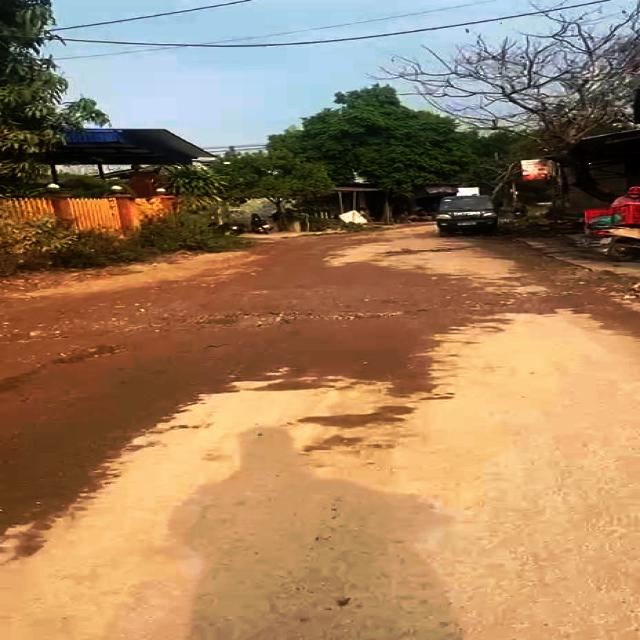pothole: (192, 310, 407, 328)
